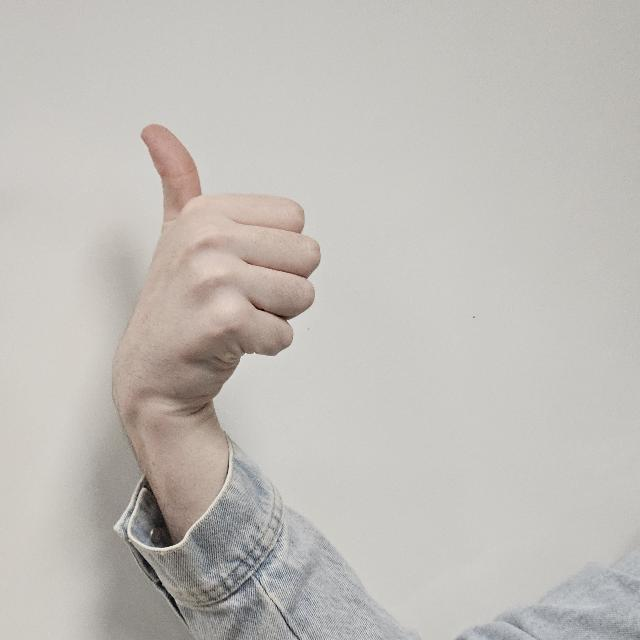Start: (128, 114, 322, 426)
